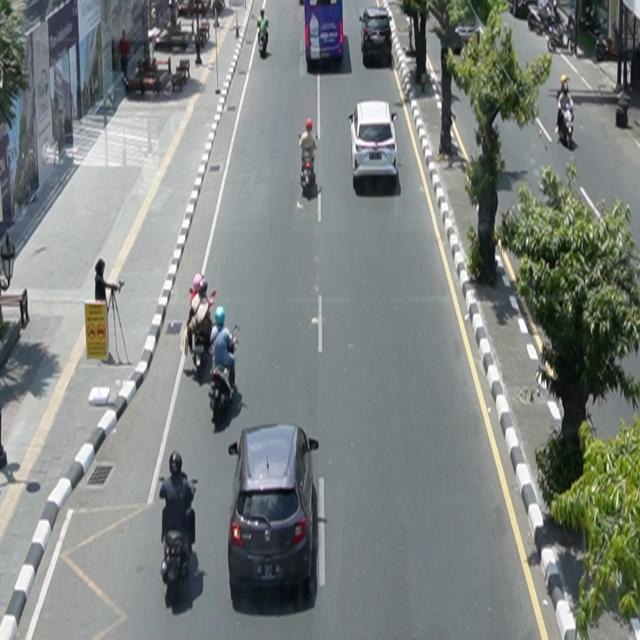bus: (305, 1, 345, 68)
car: (228, 423, 320, 596), (349, 100, 399, 182)
